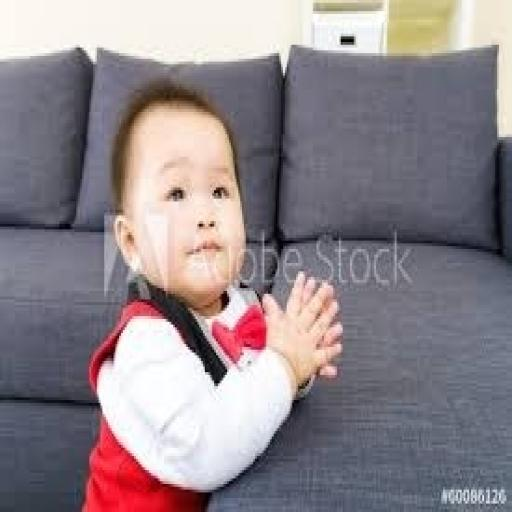clapping: (76, 81, 344, 509)
